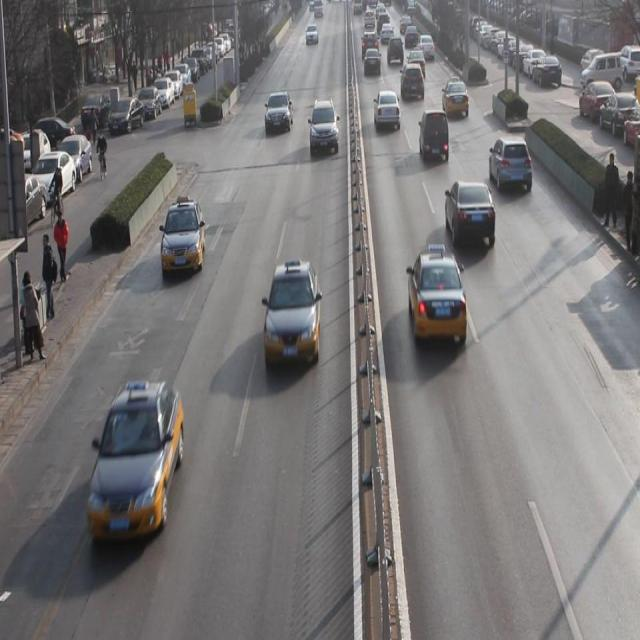car: (86, 388, 186, 545), (262, 262, 323, 366), (408, 248, 468, 352), (446, 179, 496, 252), (160, 202, 205, 280), (488, 134, 534, 198), (309, 98, 339, 156), (264, 92, 294, 136), (441, 76, 470, 115), (374, 92, 401, 133), (400, 63, 425, 102)
truck: (420, 110, 451, 164)
